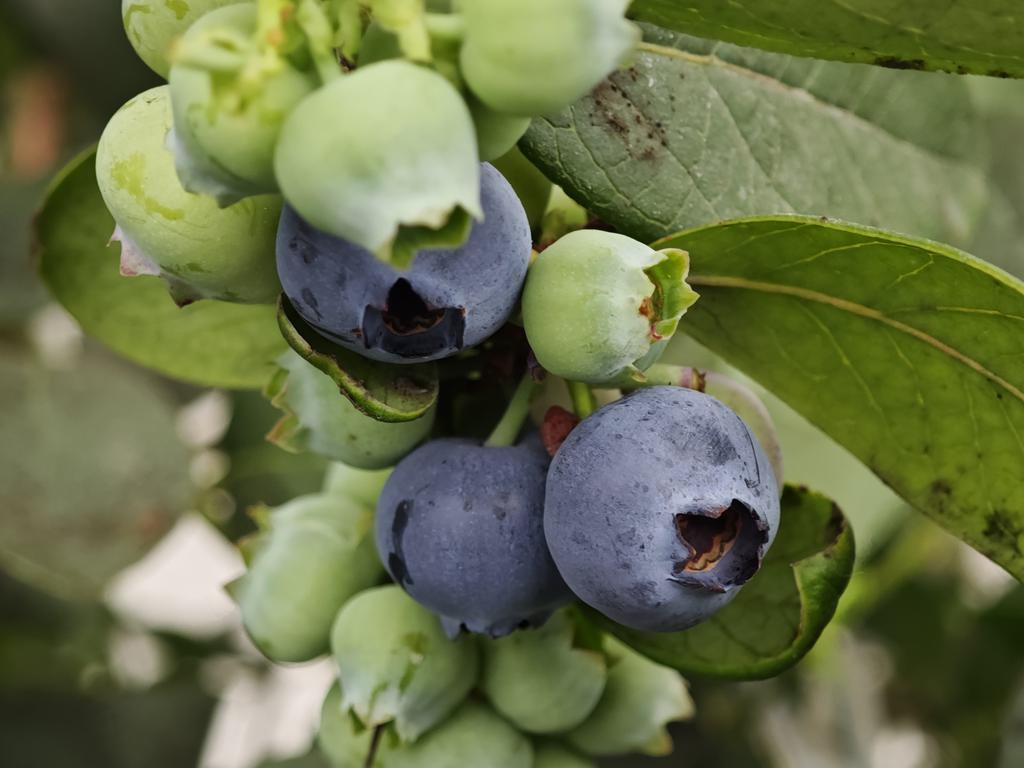RipeBlueBerry: (544, 386, 783, 632)
UnripeBlueBerry: (281, 60, 483, 262), (528, 230, 697, 378)
